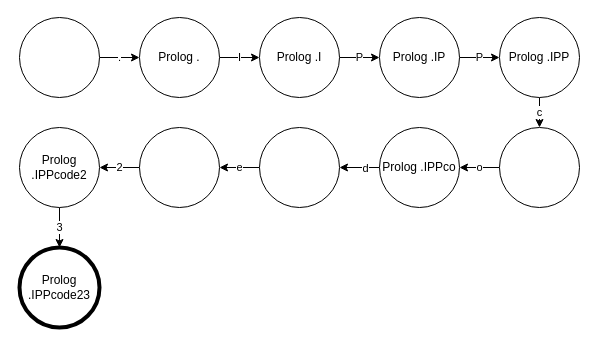
The diagram is 597 pixels wide and 347 high, and some of its shapes have lost their labels. Each missing label, with the centre of its shape:
Prolog: the point at 59,57
Prolog .IPPc: the point at 539,167
Prolog .IPPcod: the point at 299,167
Prolog .IPPcode: the point at 179,167
